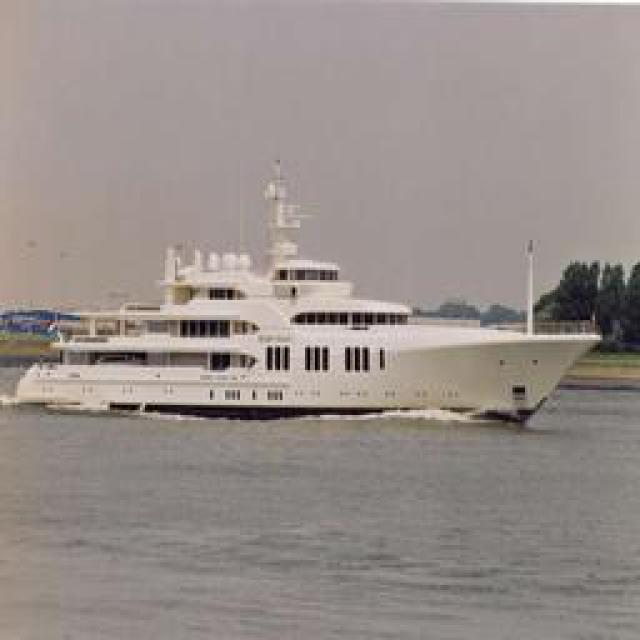Ship: (15, 217, 625, 420)
